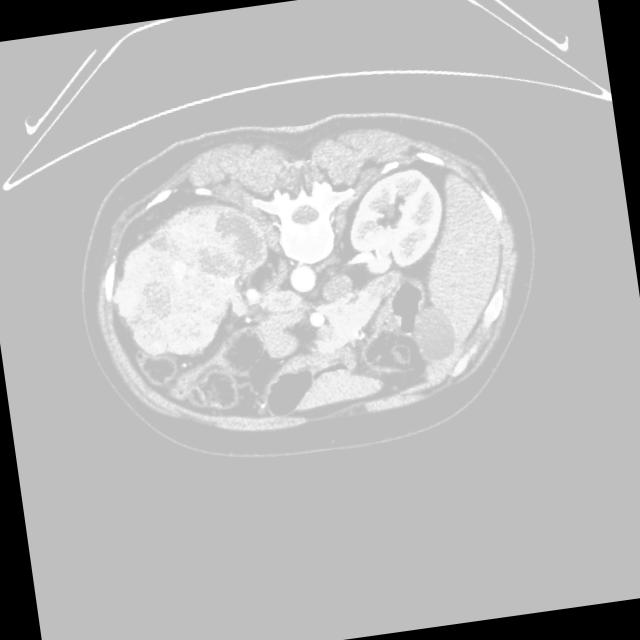TUMOR: (82, 192, 402, 415)
